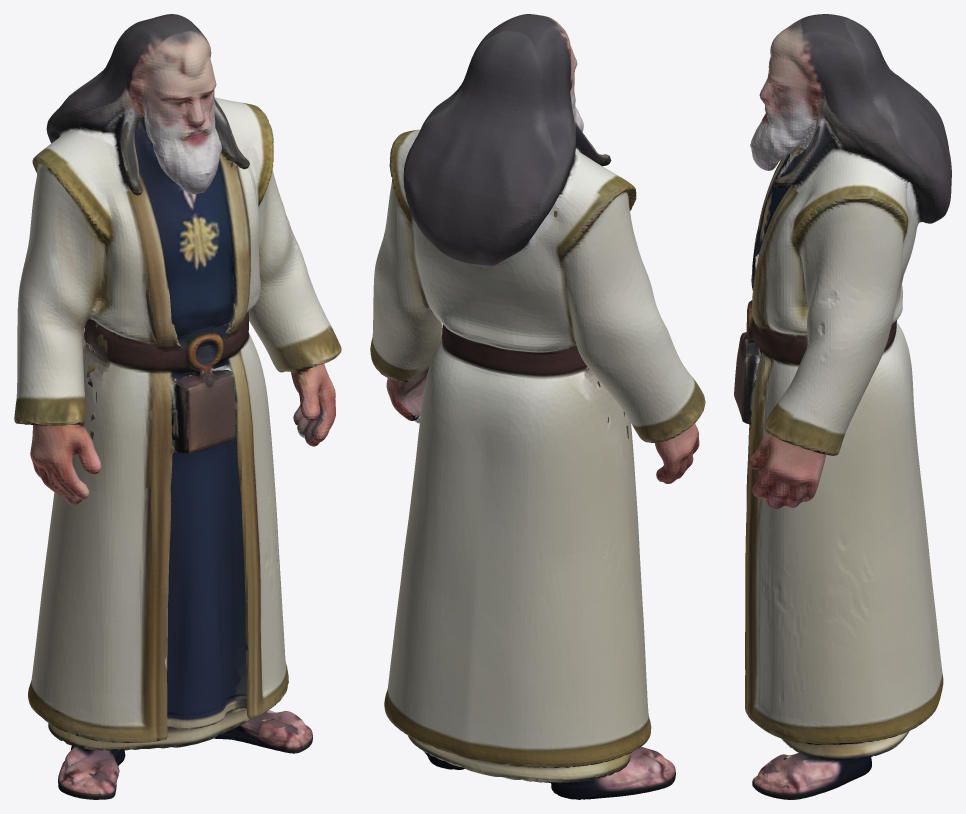
File: auren.glb
3 renders of one model, left to right at view 1: azimuth 30°, elevation 25°; view 2: azimuth 150°, elevation 25°; view 3: azimuth 270°, elevation 25°, orthographic. The views are drawn at different scales.
Parts seen in each view (by area): view 1: tmpn11f5pui.ply; view 2: tmpn11f5pui.ply; view 3: tmpn11f5pui.ply.
Part boxes in pixels (left/top/right/bottom): tmpn11f5pui.ply: left=14, top=14, right=341, bottom=799; tmpn11f5pui.ply: left=370, top=14, right=705, bottom=799; tmpn11f5pui.ply: left=734, top=14, right=951, bottom=799.
Bounding box in the file's own units: 0.9019 × 1.99 × 0.5436.
1 material, 1 textured.
